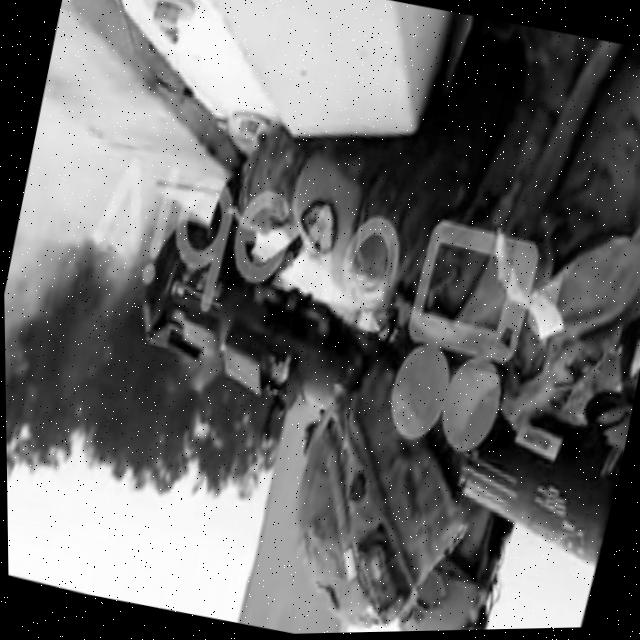rocket: (95, 226, 640, 574)
